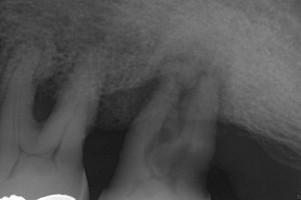Dental Caries: (148, 48, 230, 122)
Endo-Periodontal Lesion: (32, 71, 66, 122)
